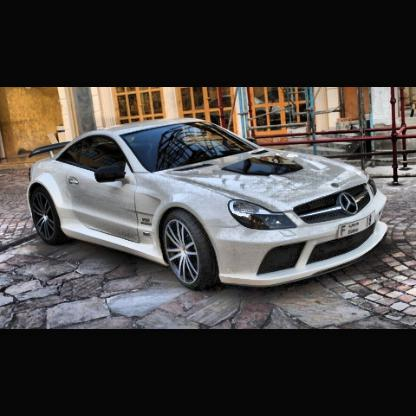Mercedes-Benz SL-Class Coupe 2009: (27, 118, 392, 292)
